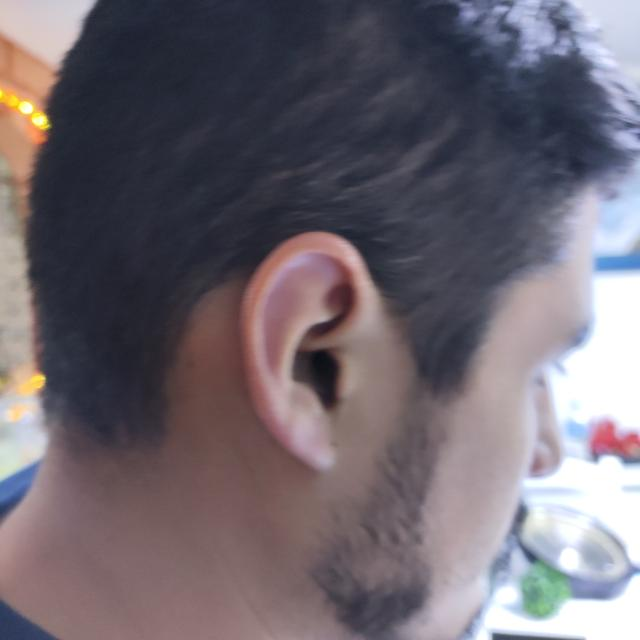ear: (240, 232, 382, 471)
